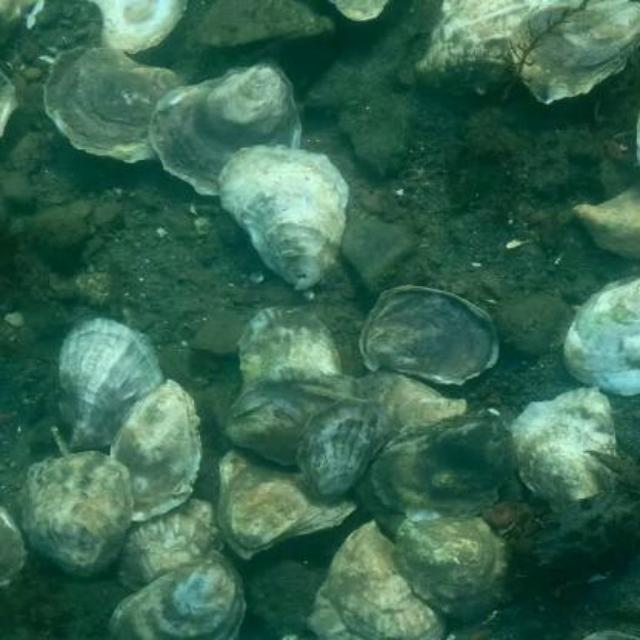Oyster-Closed: (148, 61, 301, 195), (219, 145, 350, 293), (41, 45, 187, 162), (313, 519, 450, 638), (373, 409, 516, 519), (218, 445, 357, 558), (17, 451, 137, 581), (57, 319, 167, 451), (507, 0, 638, 105), (359, 286, 500, 382), (225, 366, 359, 462), (396, 515, 516, 621), (109, 382, 200, 520), (512, 389, 616, 507), (417, 0, 547, 94), (107, 551, 246, 638), (119, 499, 231, 590), (297, 398, 392, 503), (562, 276, 638, 393), (238, 307, 342, 389), (355, 371, 469, 443), (576, 182, 638, 260), (0, 508, 26, 586), (329, 0, 391, 21)
Oyster-Open: (197, 0, 333, 64)
